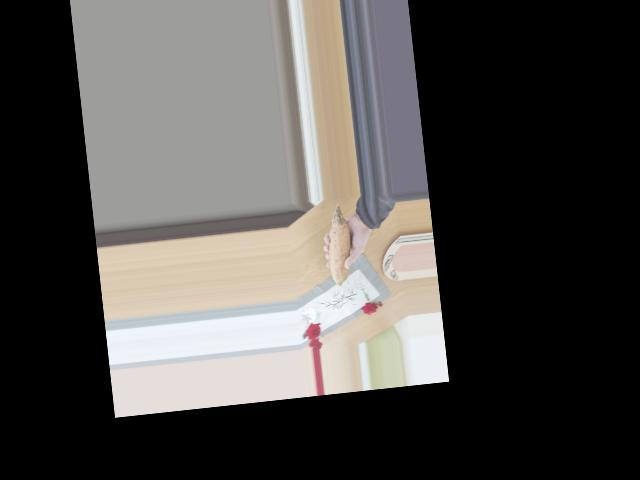sweet_potato: (320, 209, 362, 288)
